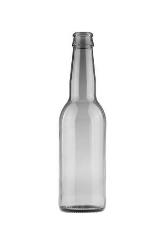glass: (59, 32, 110, 214)
